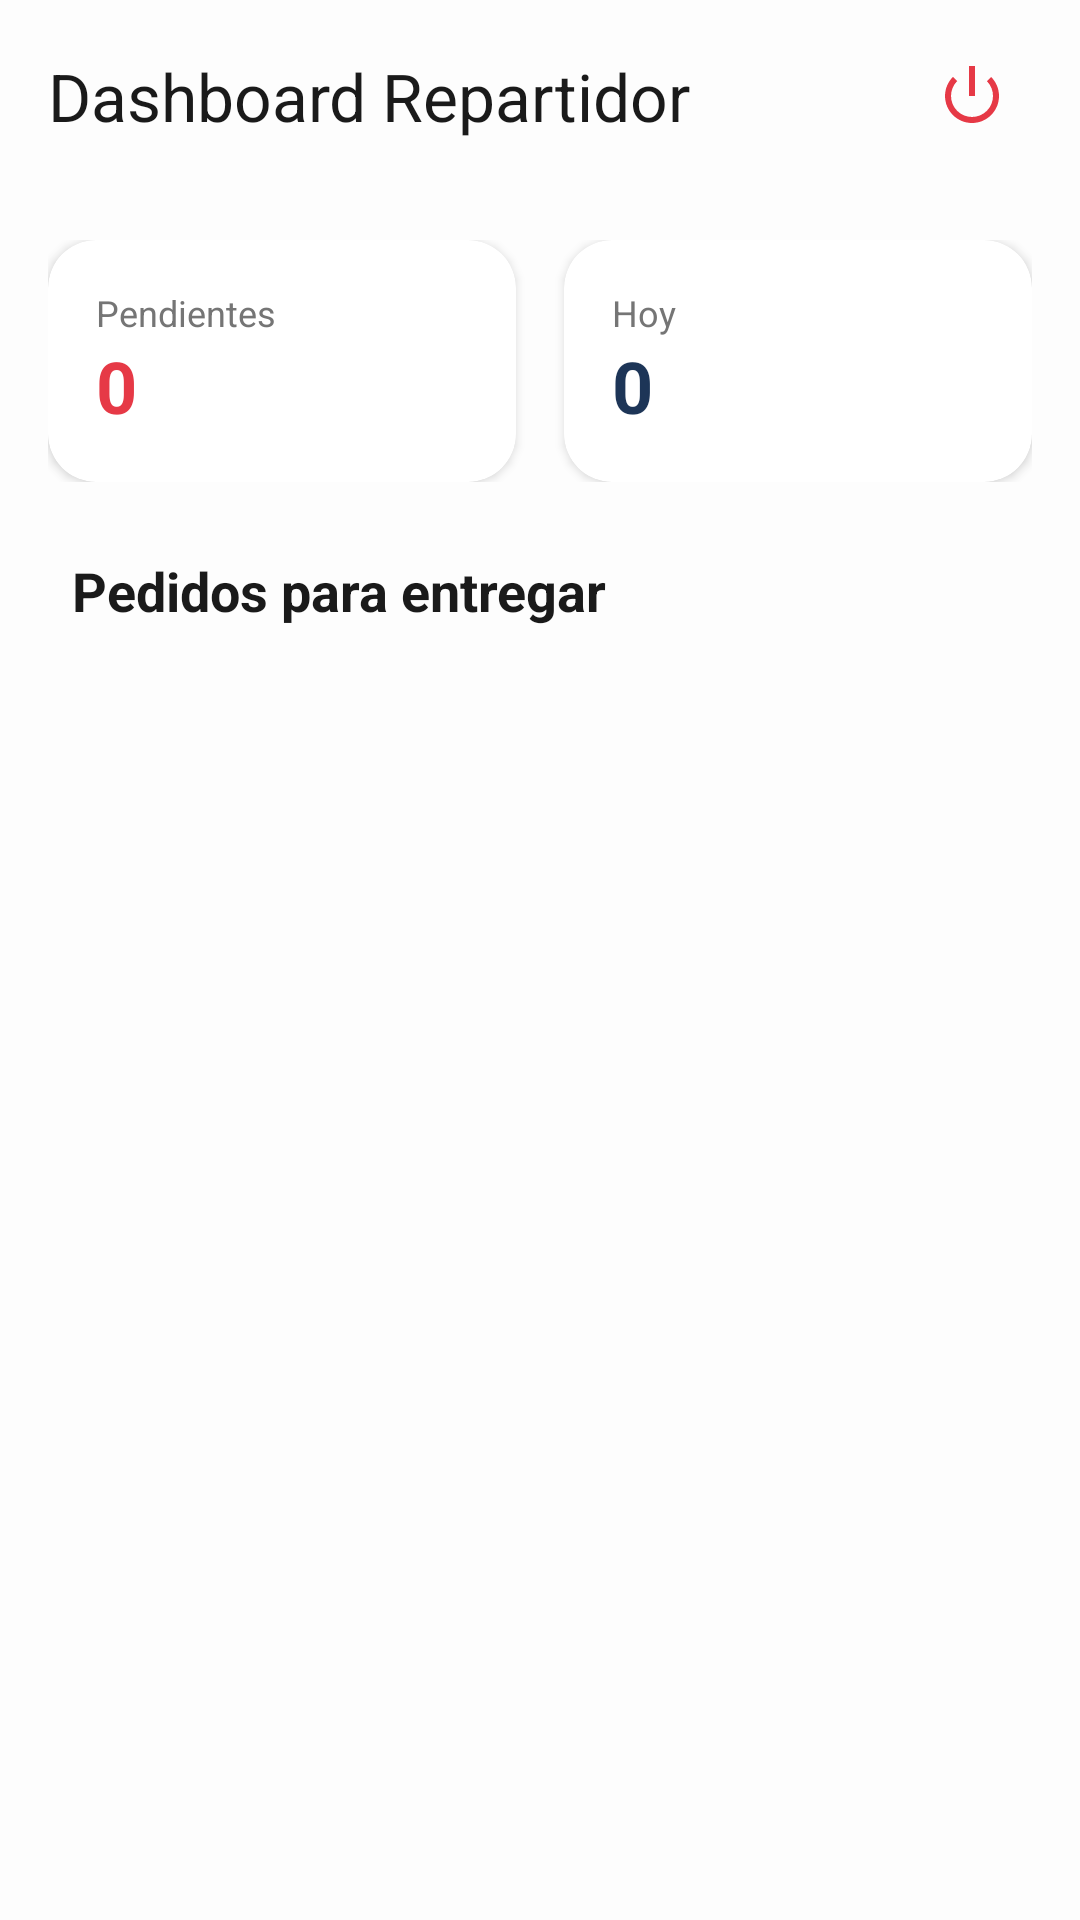

Icon click points for this 1080*1920 phone screenshot, format [x,y]:
lock power off: [972,94]
